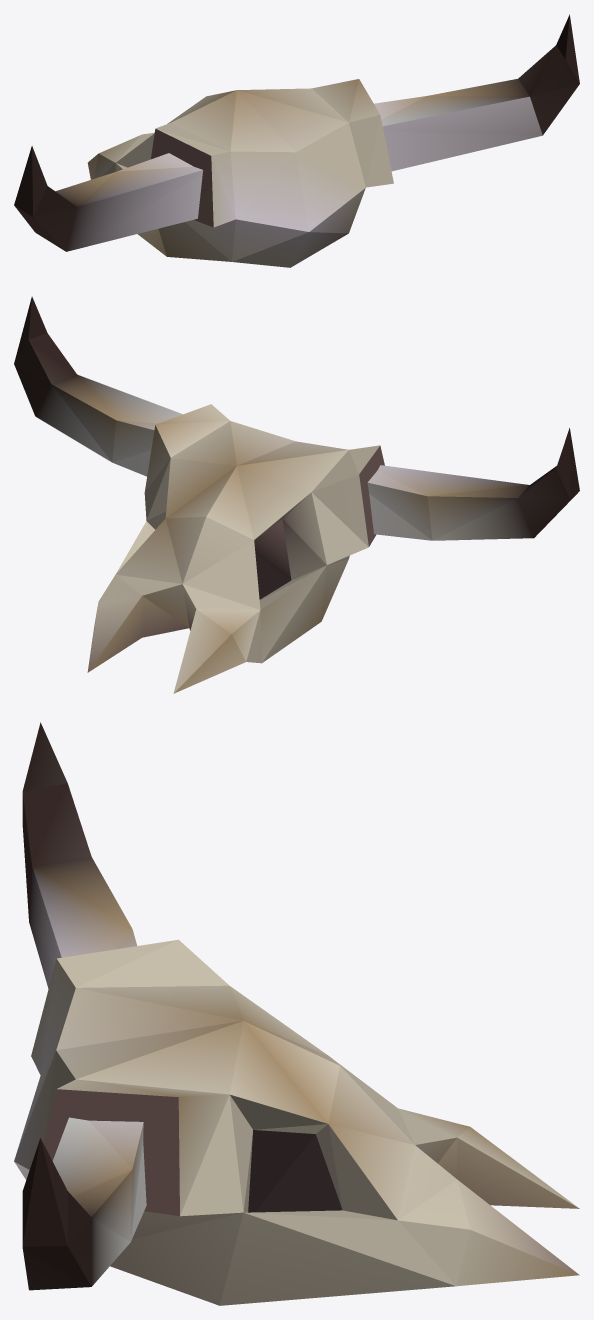
Rendered from Mixed_Bone_02.fbx.
3 views of the same model, one above another, from view 1: azimuth 30°, elevation 25°; view 2: azimuth 150°, elevation 25°; view 3: azimuth 270°, elevation 25° (orthographic). The views are drawn at different scales.
Visible parts, largest first — view 1: Bone_02.001; view 2: Bone_02.001; view 3: Bone_02.001.
Part boxes in pixels (<box>): Bone_02.001: <box>14,14,579,267</box>; Bone_02.001: <box>14,296,579,693</box>; Bone_02.001: <box>14,722,579,1305</box>.
Bounding box in the file's own units: 320 × 112 × 178.
